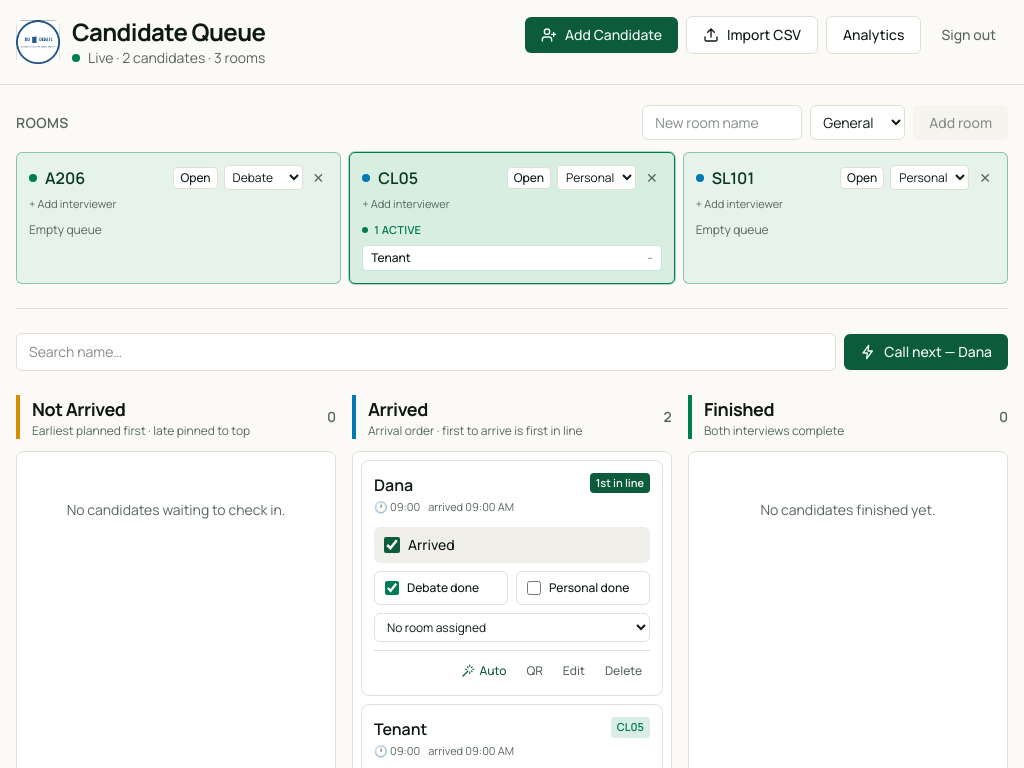
Test: Auto-Assign — the load-balancing decision, end to end › routes to the personal rooms once the debate is done
Click the button with aria-label "Auto-assign" at {"x": 484, "y": 671}, box [454,659,514,683]
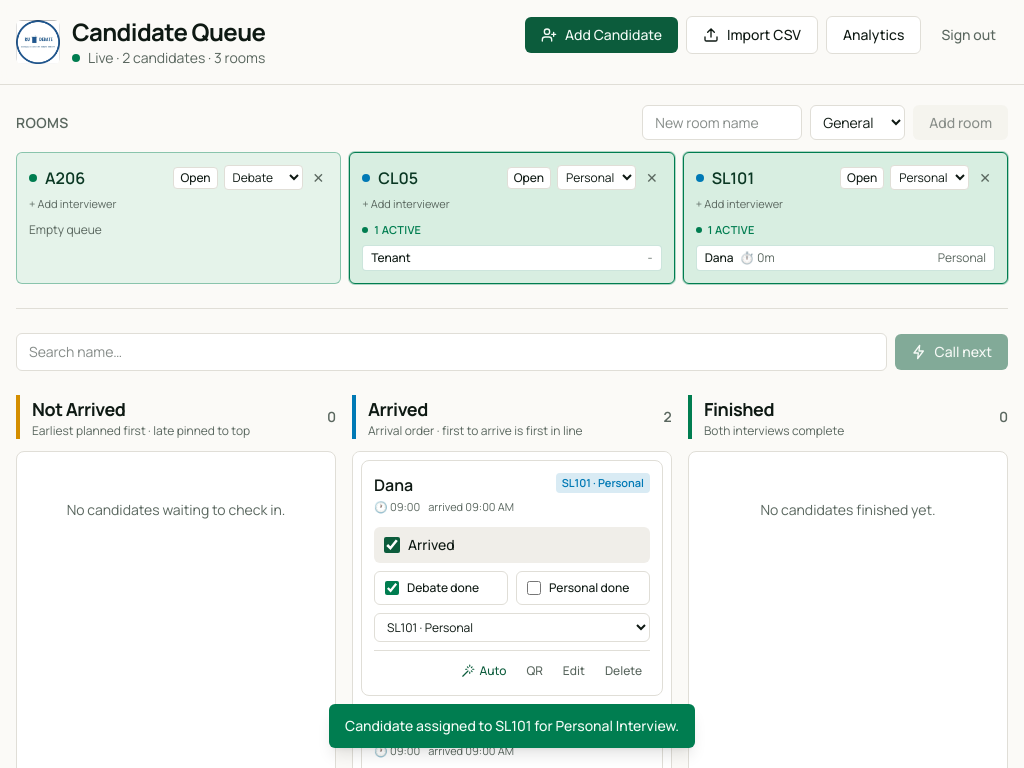
Result: the button "Candidate assigned to SL101 for Personal Interview." is shown at [329,704,695,748]
